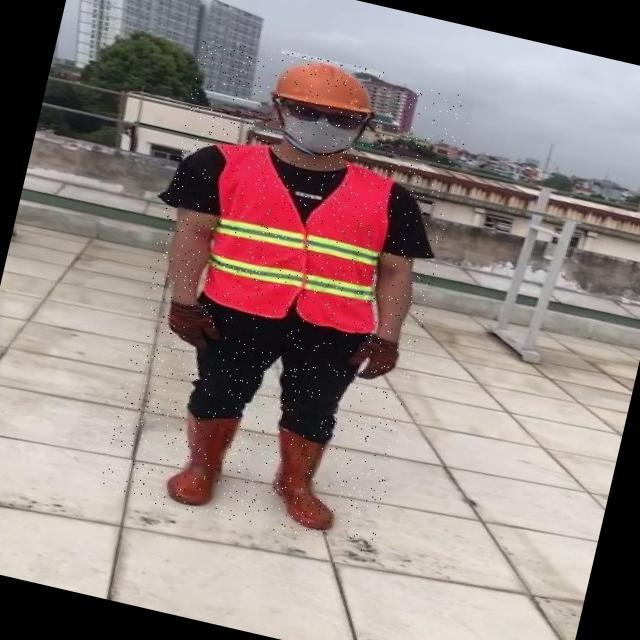Gloves: (158, 299, 227, 356), (348, 335, 400, 387)
Helmet: (271, 49, 384, 119)
Human: (99, 36, 477, 554)
Safety Boot: (256, 422, 353, 532), (159, 406, 238, 510)
Safety Vest: (182, 140, 405, 340)
